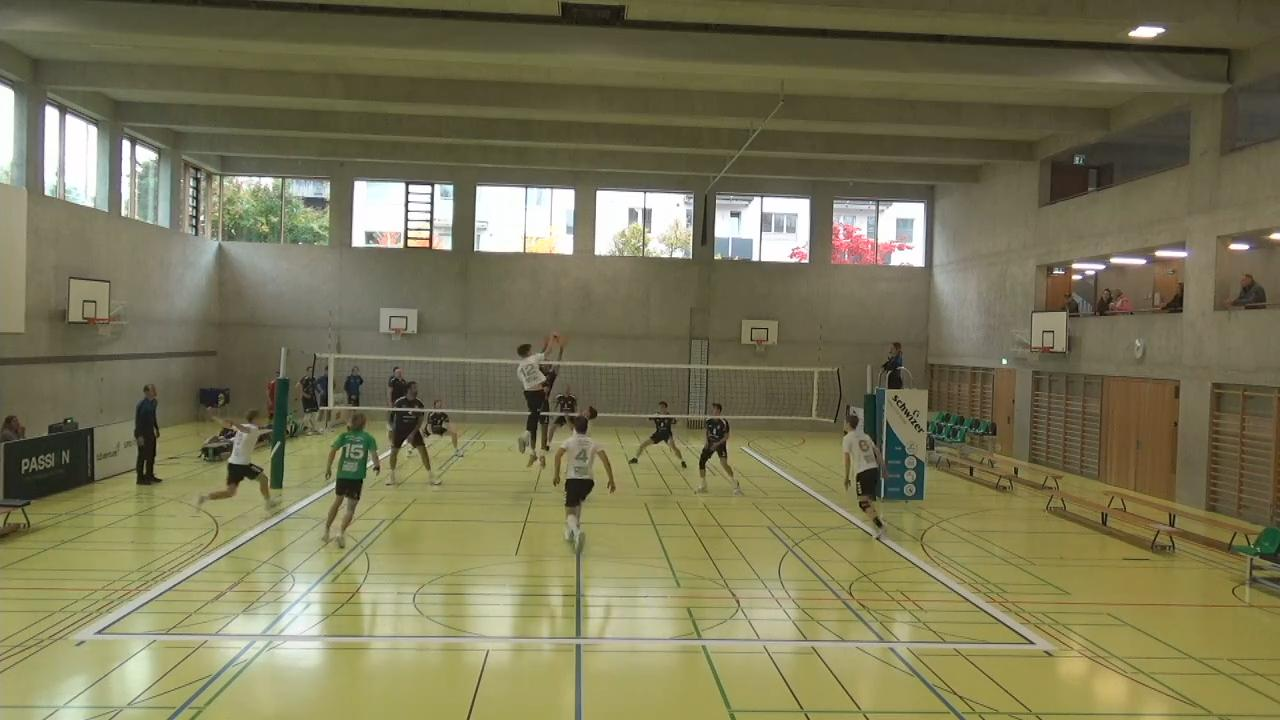attacco: (514, 332, 561, 478)
muro: (538, 330, 565, 453)
